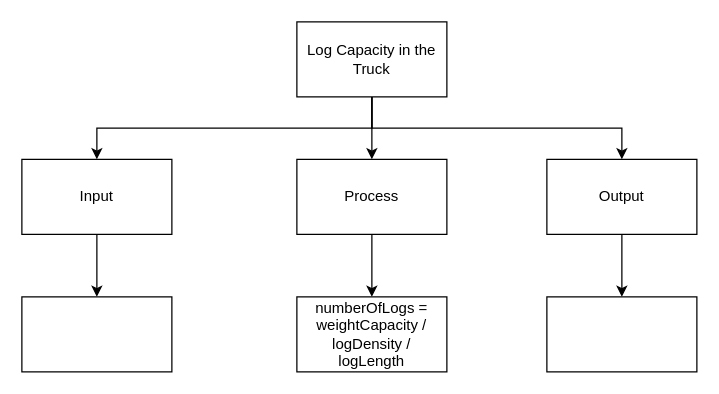
Image size: 719x394. Some labels were removed from this diagram. Each missing label, with the centre of its shape:
logLength: (x=96, y=334)
numberOfLogs: (x=621, y=334)
